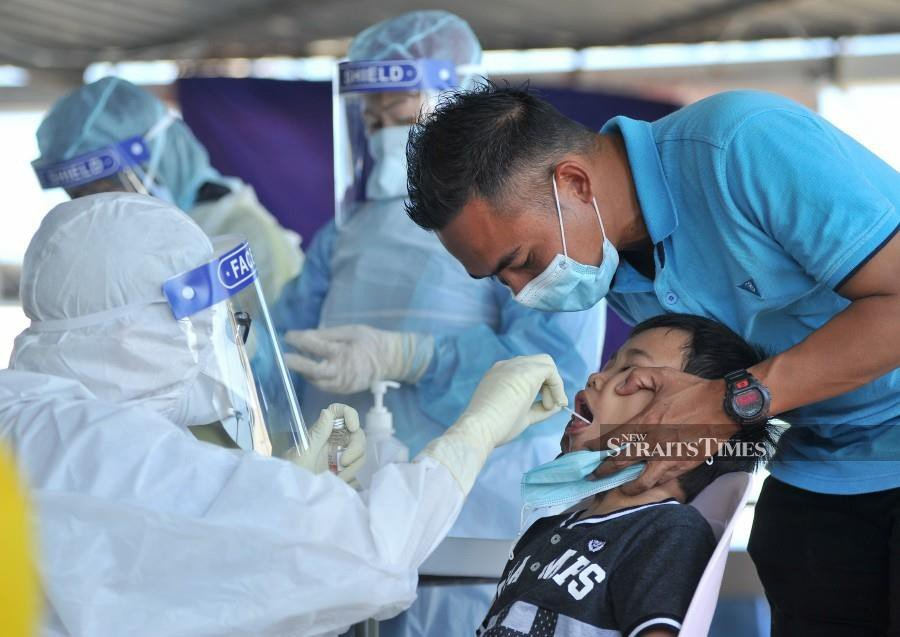Coverall: (1, 194, 461, 632)
Face_Shield: (161, 239, 293, 457), (325, 58, 448, 225), (28, 135, 183, 226)
Gloves: (418, 351, 573, 492), (274, 318, 439, 397), (291, 396, 374, 485)
mask_weared_incorrect: (542, 338, 674, 514)
with_mask: (450, 219, 618, 316), (359, 91, 424, 197)
